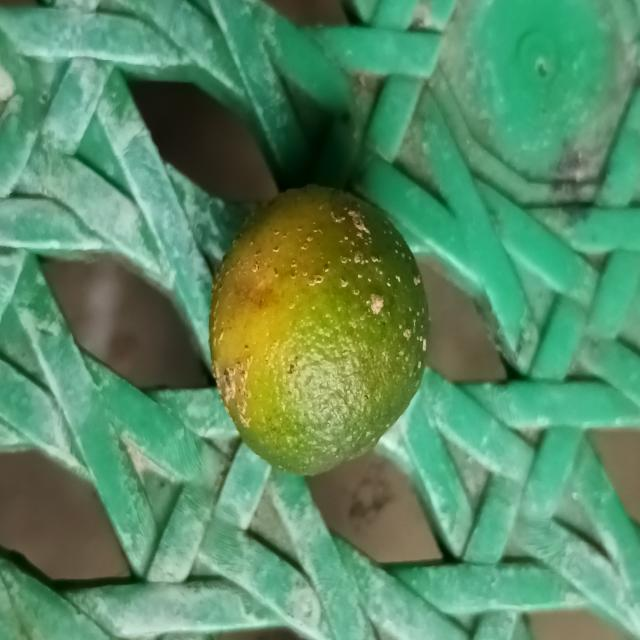scab: (209, 168, 442, 486)
